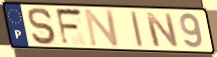9: (179, 12, 205, 51)
F: (54, 8, 85, 47)
I: (129, 10, 145, 49)
N: (83, 9, 121, 48), (143, 11, 181, 49)
S: (27, 7, 59, 46)
